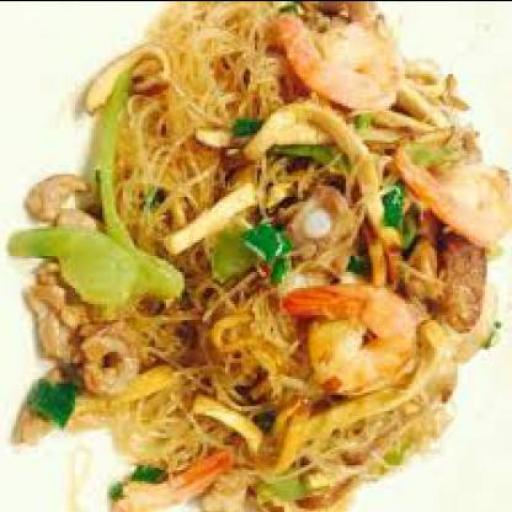biodegradable: (11, 1, 511, 510), (246, 91, 394, 236), (291, 276, 425, 394), (18, 219, 188, 307), (100, 55, 168, 264), (400, 139, 512, 252), (282, 11, 405, 112), (307, 368, 439, 444), (196, 382, 309, 468), (405, 227, 491, 328), (114, 441, 232, 510), (244, 448, 375, 510), (164, 178, 270, 250), (202, 116, 412, 150), (166, 177, 257, 255), (82, 40, 178, 110), (16, 360, 75, 444), (82, 319, 146, 396), (210, 214, 268, 276), (30, 169, 98, 220), (398, 80, 457, 132), (301, 1, 389, 26), (39, 375, 84, 421), (402, 62, 469, 84), (423, 72, 469, 104), (370, 107, 440, 127), (373, 230, 389, 287)
